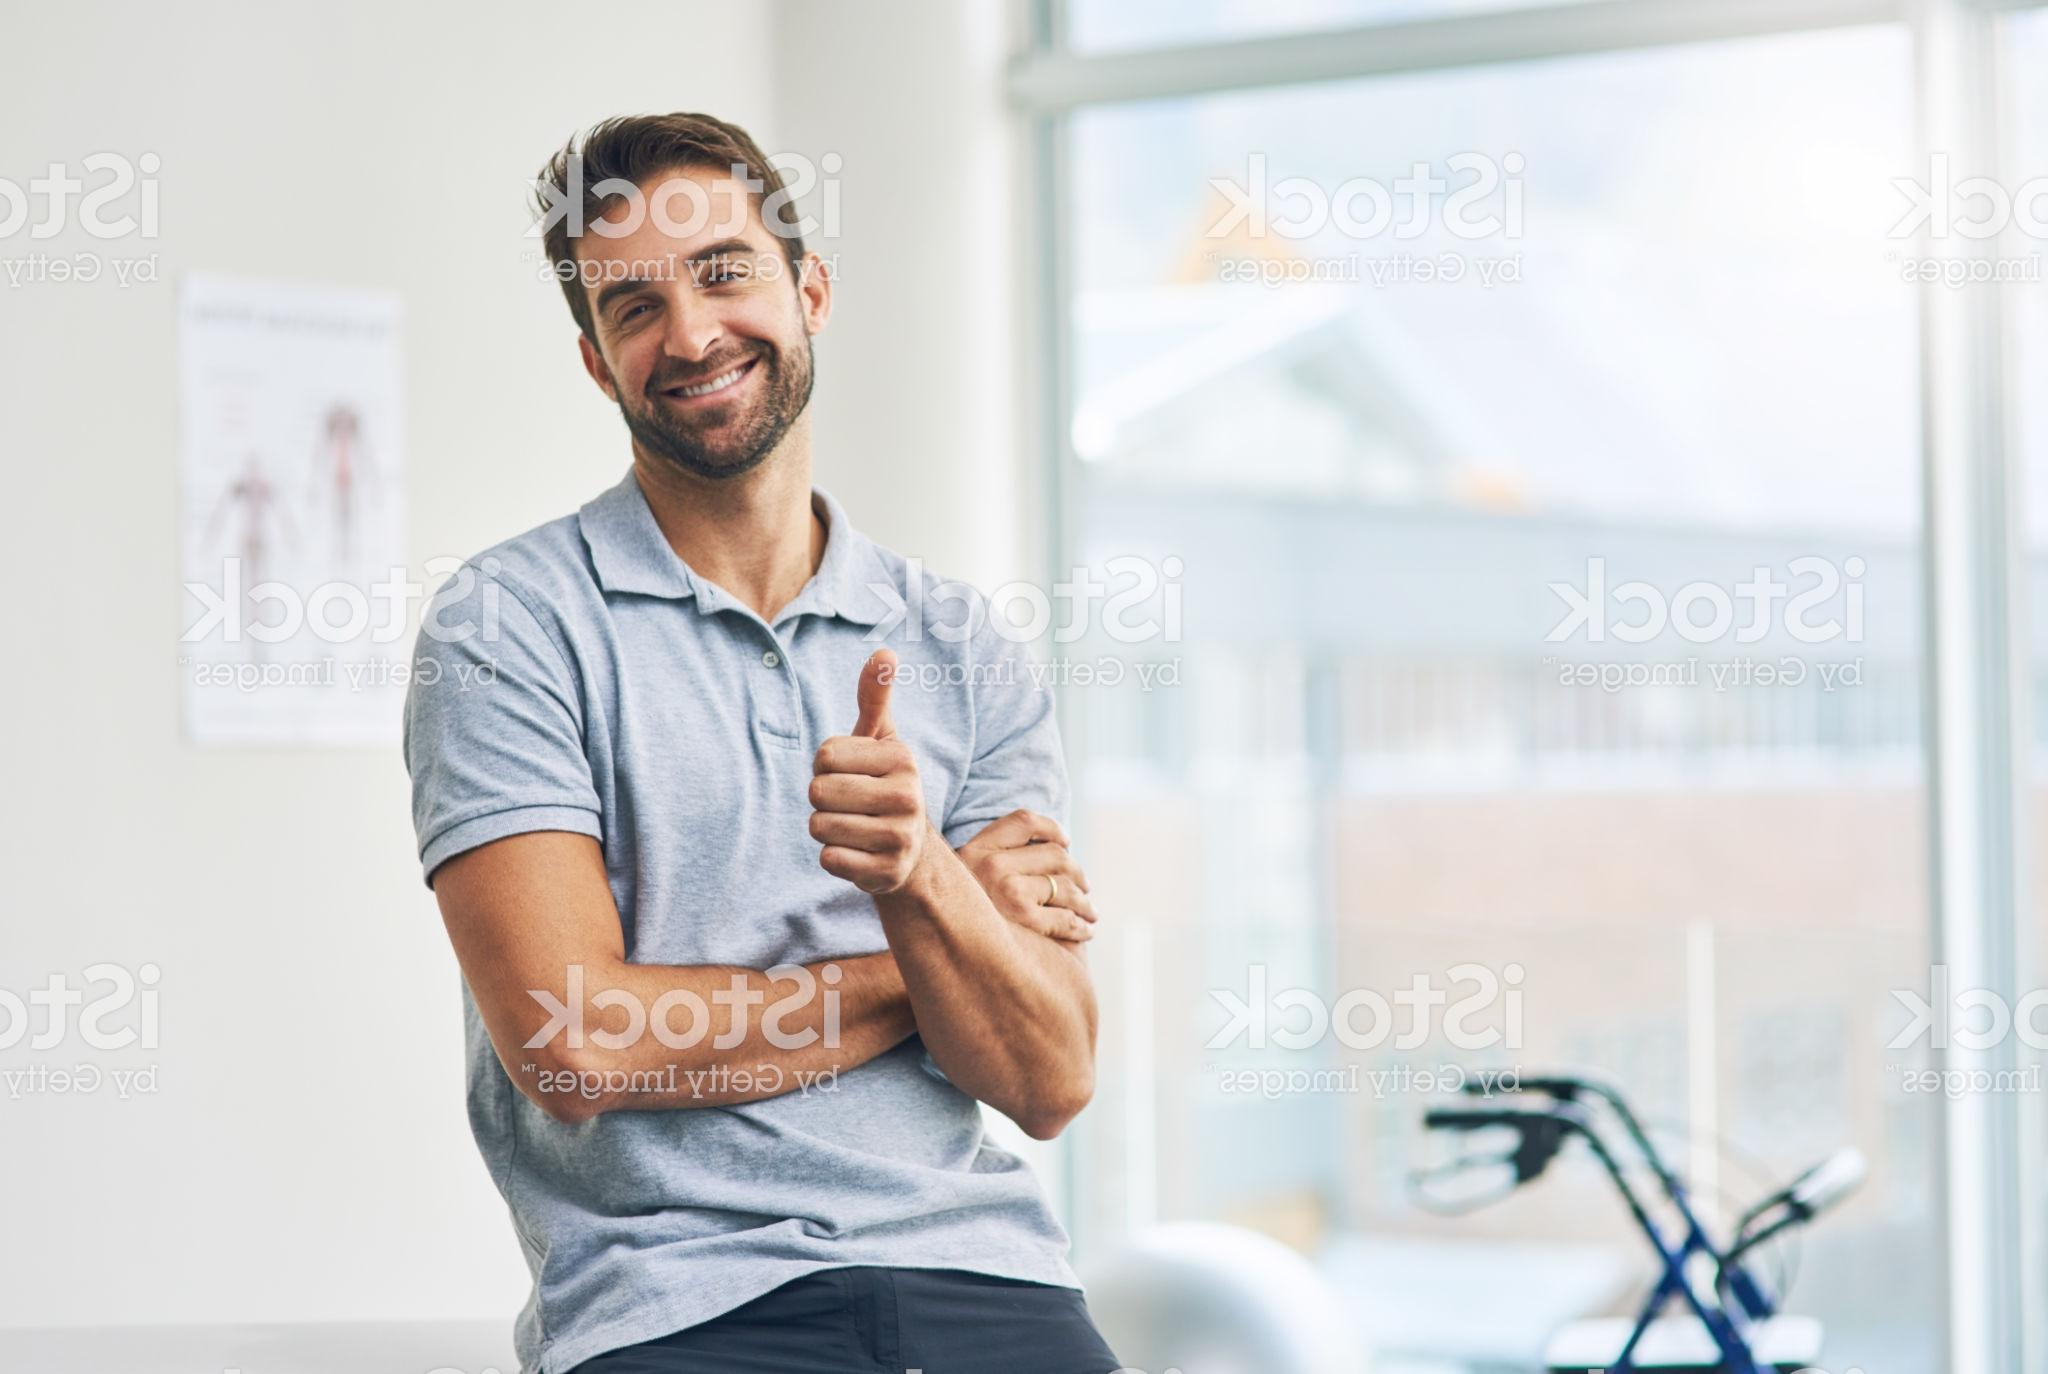thumbsup: (805, 644, 929, 899)
